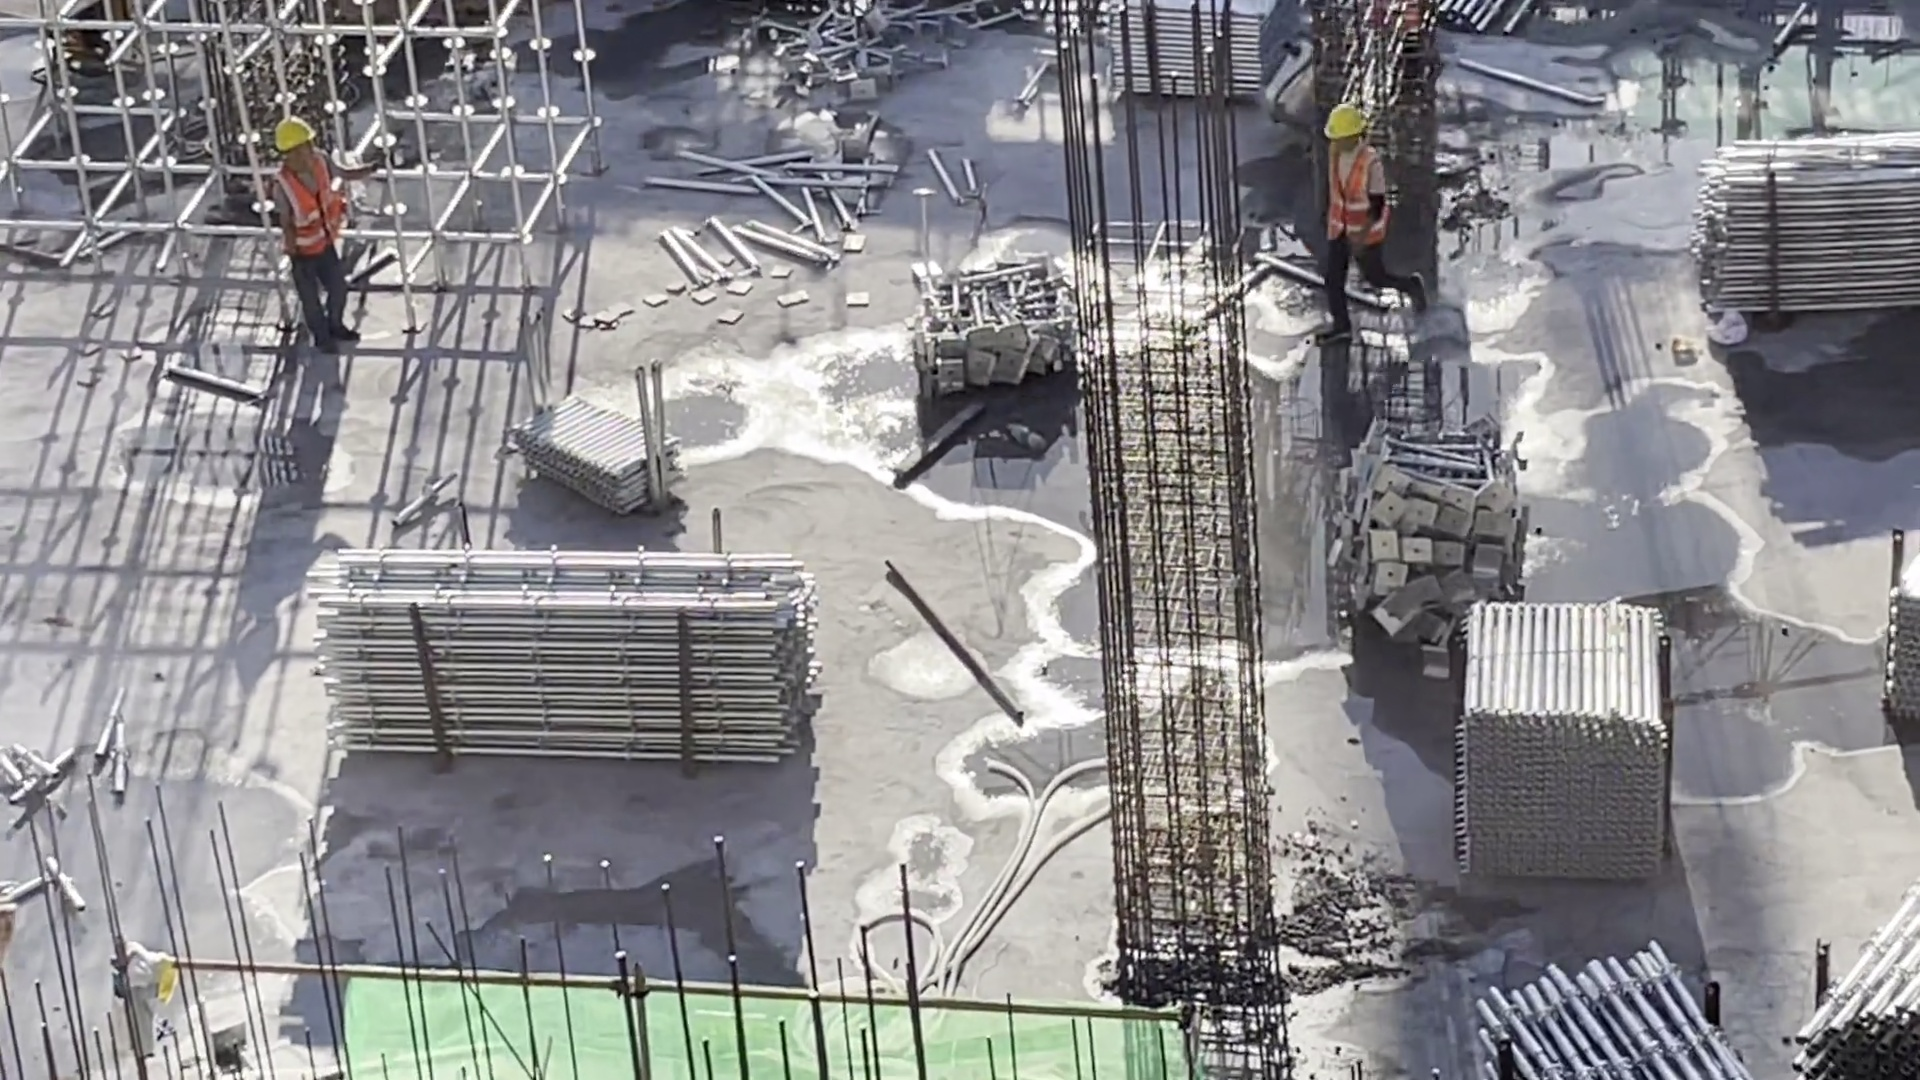helmet: (269, 116, 322, 150), (1325, 104, 1373, 138)
person: (269, 119, 393, 345), (1319, 105, 1415, 334), (1387, 1, 1456, 124)
scaffold: (296, 542, 832, 783), (1448, 605, 1671, 894), (1334, 432, 1542, 651), (1696, 131, 1920, 332), (1458, 956, 1776, 1080), (1799, 860, 1920, 1073), (894, 268, 1092, 385), (1119, 3, 1287, 119), (529, 389, 692, 502), (792, 9, 944, 84), (1873, 571, 1920, 741)
vest: (276, 153, 353, 256), (1331, 134, 1382, 251)
